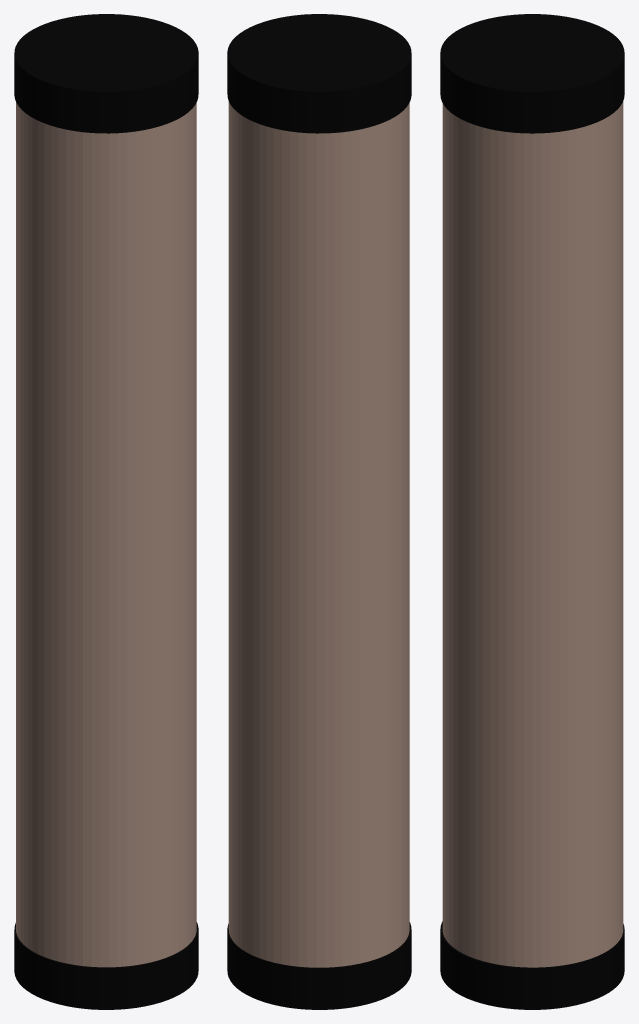
The model's file is SatMeter.fbx.
3 renders of one model, left to right at view 1: azimuth 30°, elevation 25°; view 2: azimuth 150°, elevation 25°; view 3: azimuth 270°, elevation 25°, orthographic.
Visible parts, largest first — view 1: node_id30, node_id57; view 2: node_id30, node_id57; view 3: node_id30, node_id57.
Part boxes in pixels (left/top/right/bottom): node_id30: left=16, top=102, right=196, bottom=967; node_id57: left=14, top=14, right=198, bottom=1009; node_id30: left=228, top=101, right=409, bottom=967; node_id57: left=227, top=14, right=411, bottom=1009; node_id30: left=442, top=101, right=623, bottom=967; node_id57: left=440, top=14, right=624, bottom=1009.
Size of the model in its own units: 0.0931 by 0.512 by 0.0931.
Materials: 3 (3 with a texture image).
